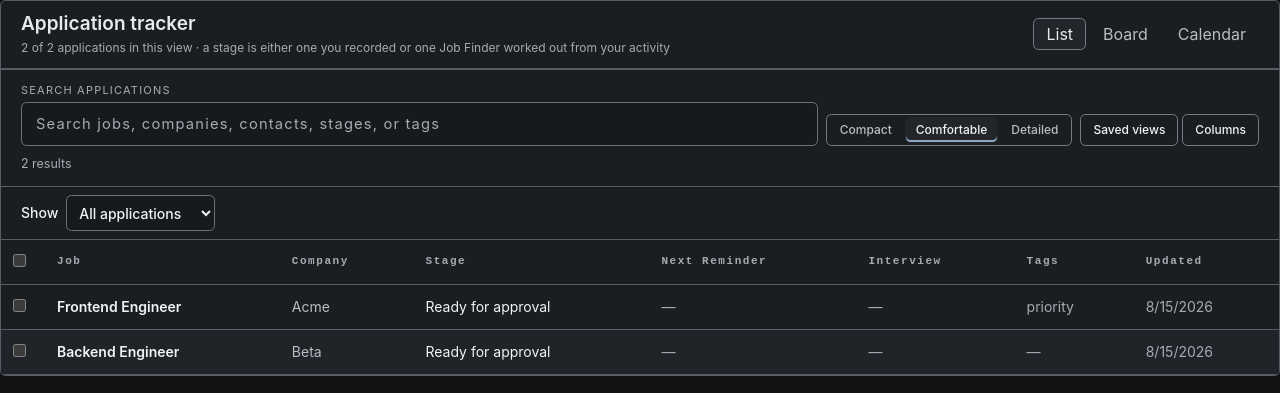
ApplicationsCrmViews › searches locally without resetting the selected application
Step 1. Type "priority" into the search field labelled "Search applications" → (419, 124), box [21,102,818,146]
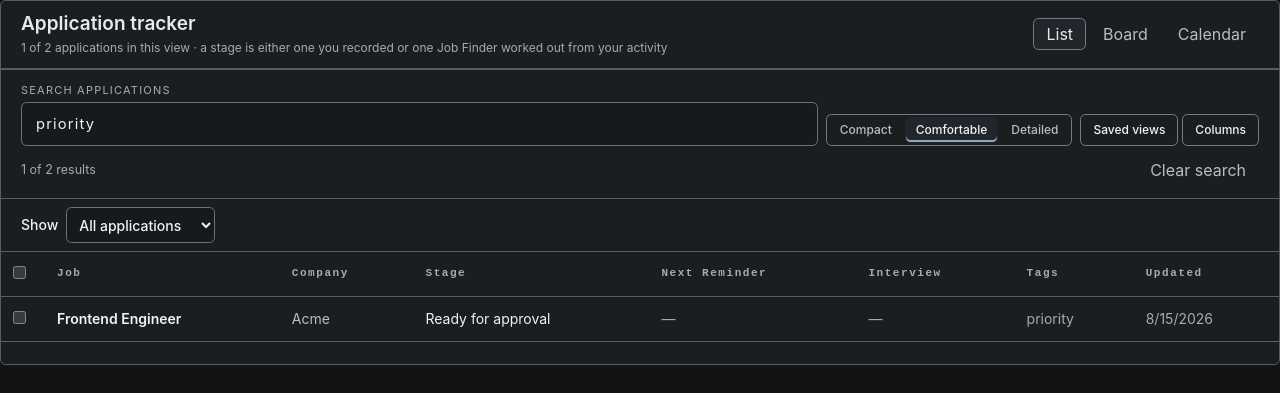
expect the button "Frontend Engineer" is shown: met, box [57,309,181,329]
expect the button "Backend Engineer" is gone: met
